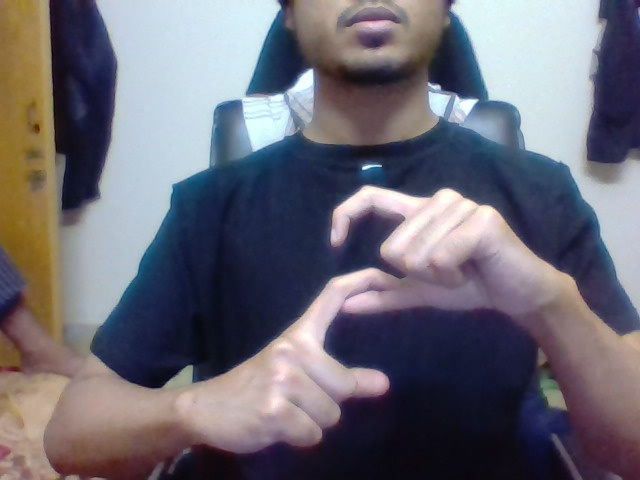S: (319, 182, 404, 400)
